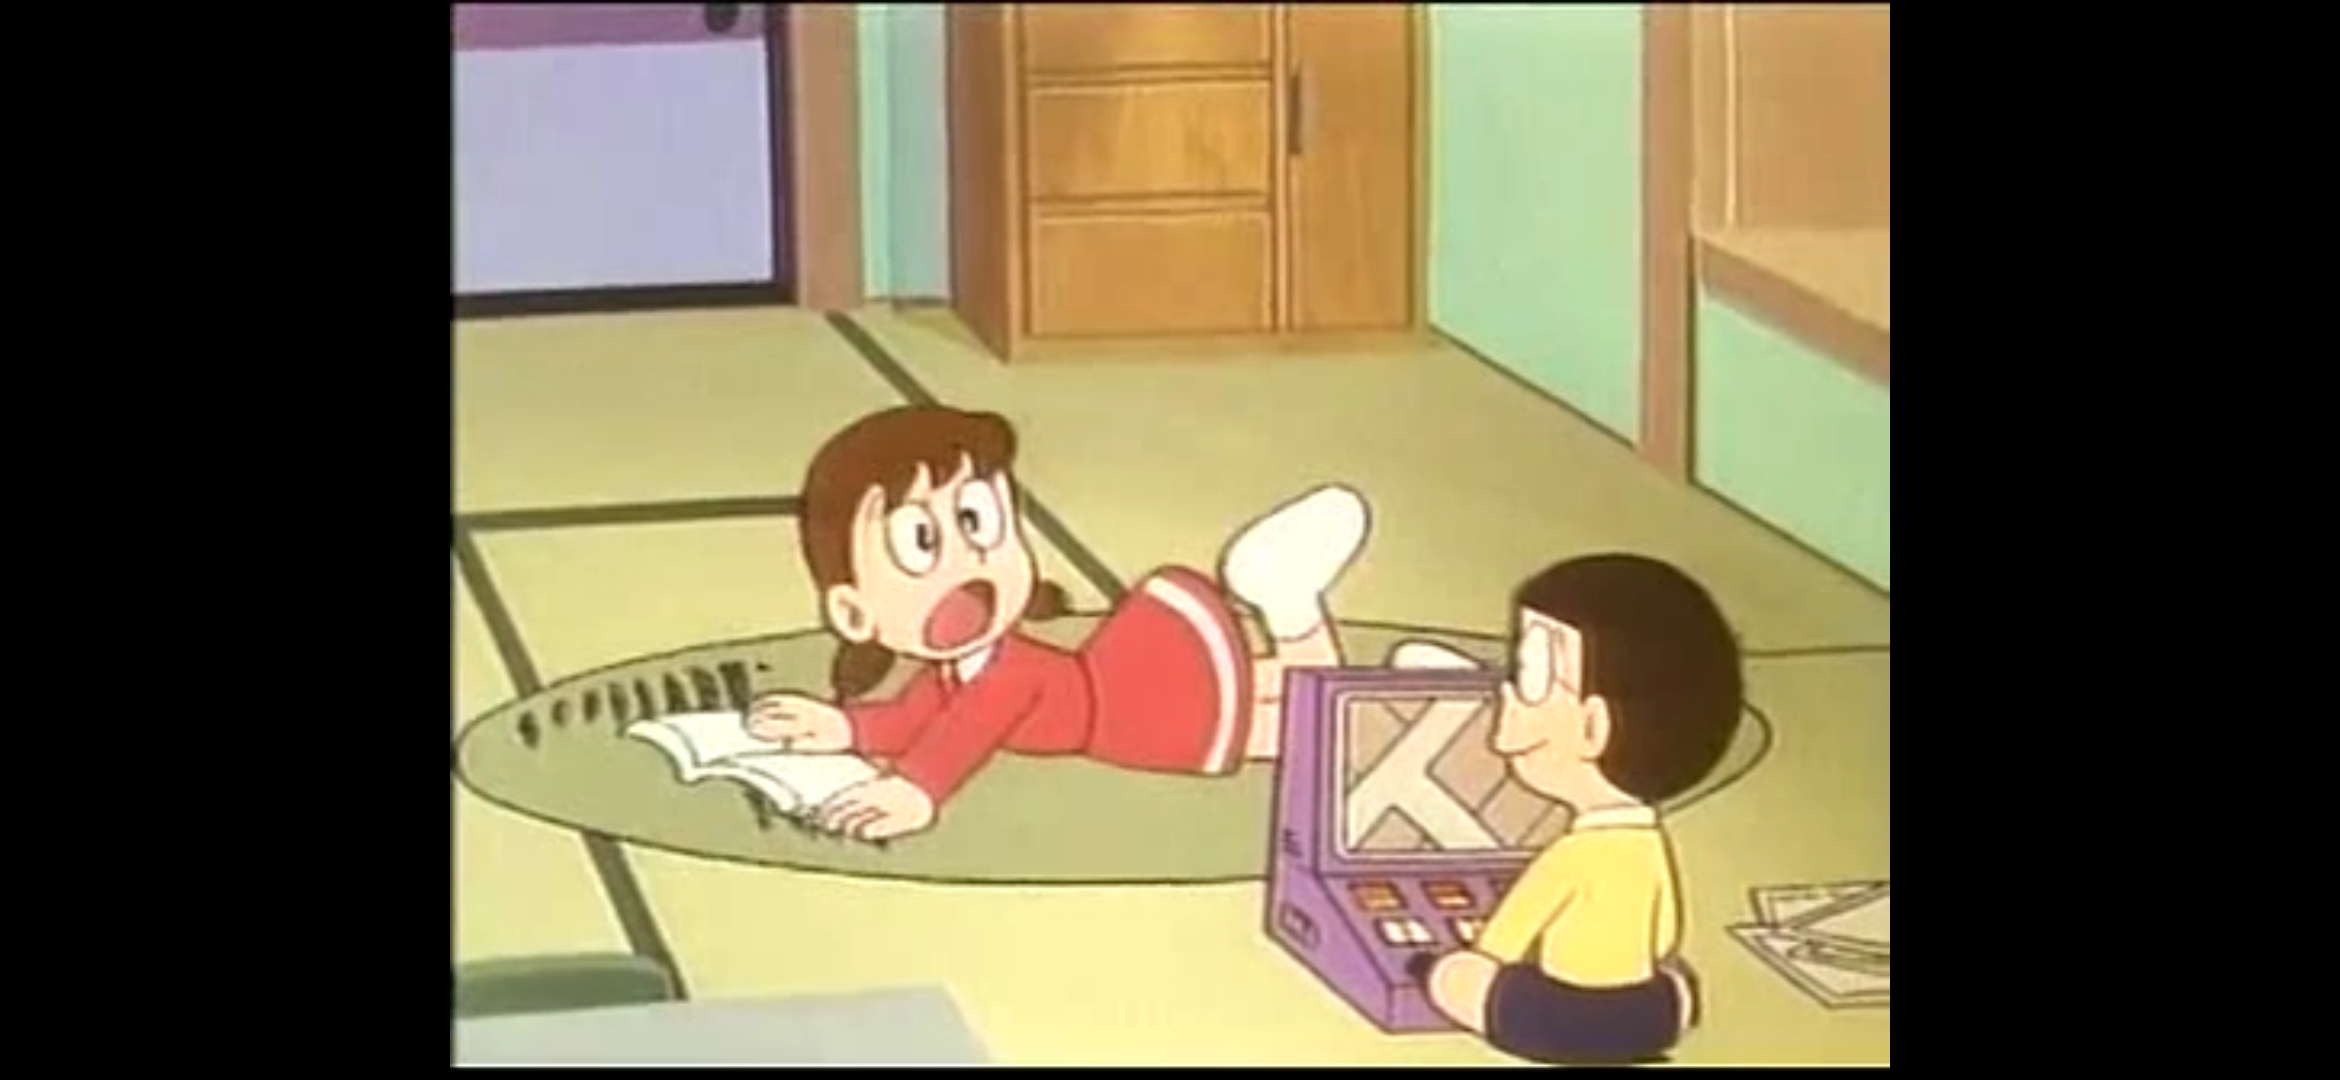Nobi: (1486, 550, 1743, 811)
Shizuka: (800, 404, 1036, 661)
